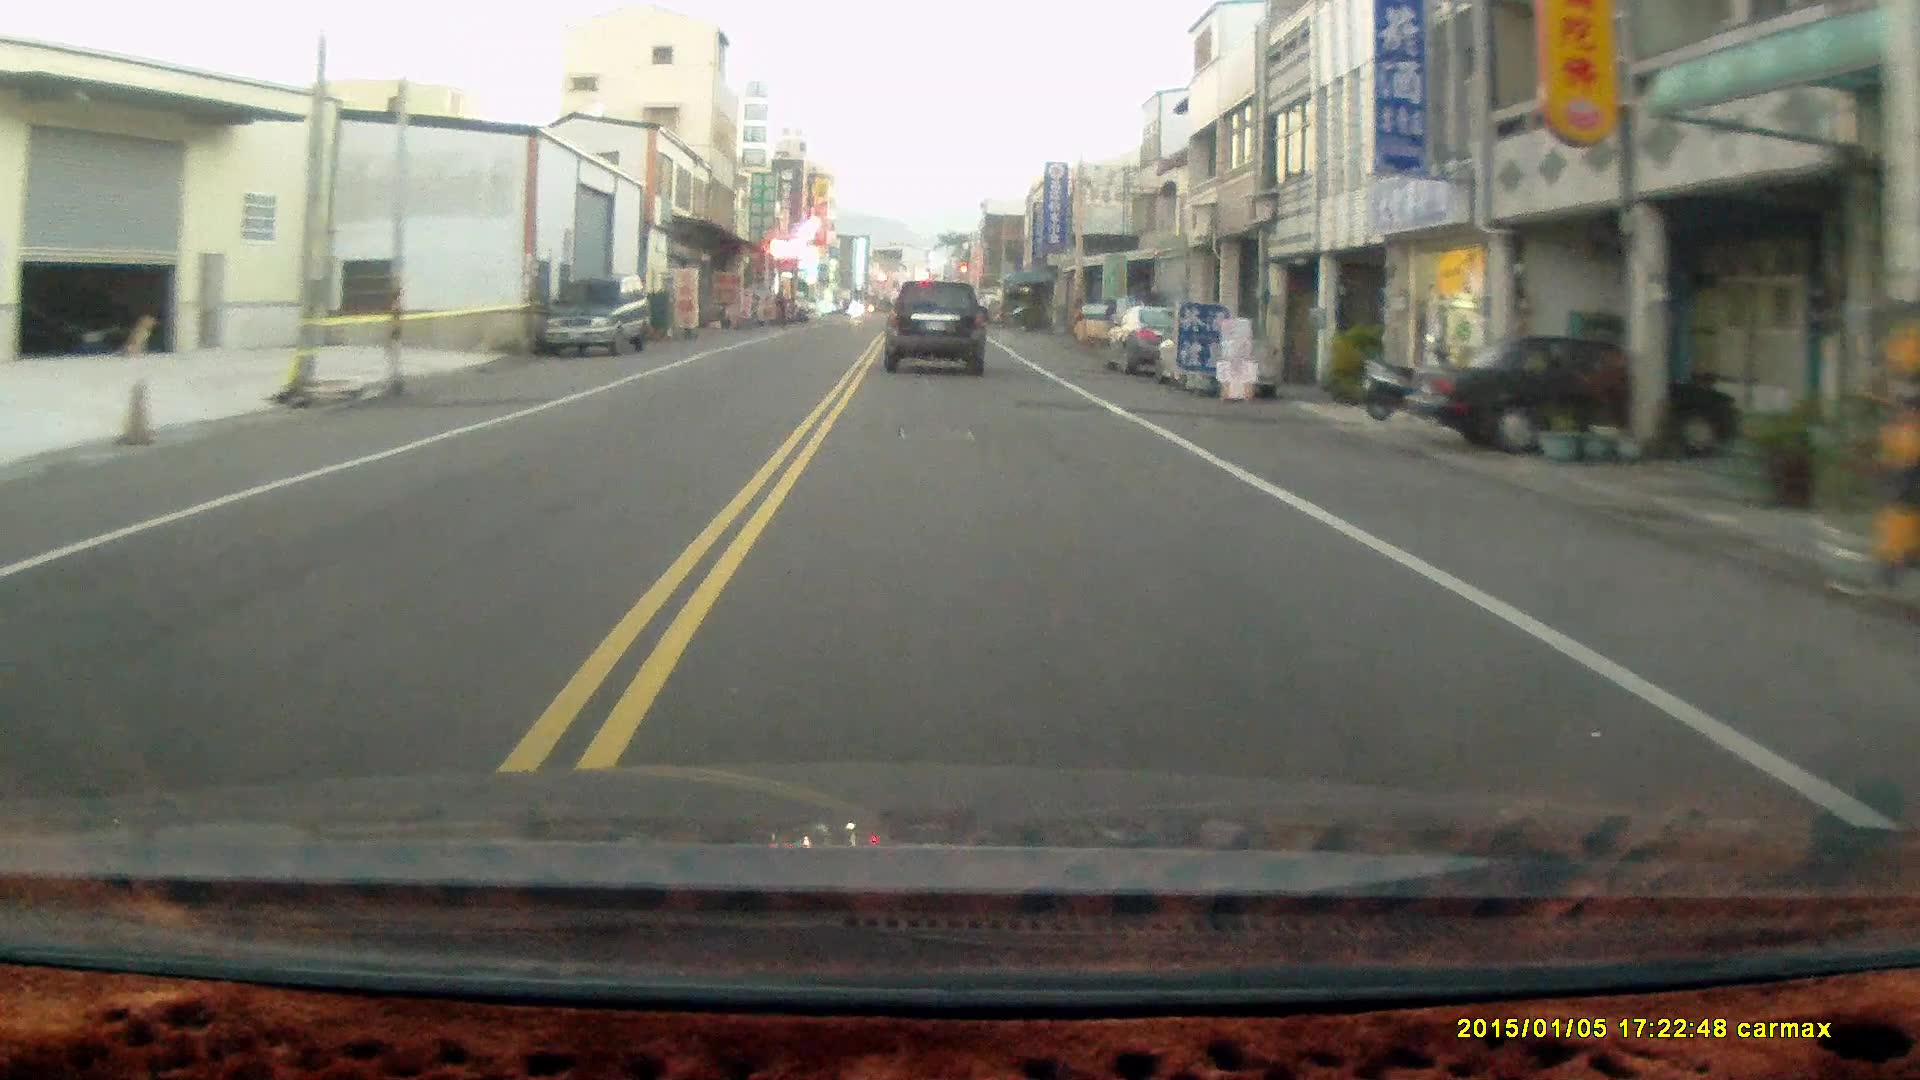vehicle: (1408, 336, 1749, 456), (1159, 319, 1286, 406), (884, 284, 989, 382), (542, 281, 655, 363), (1104, 306, 1226, 378)
